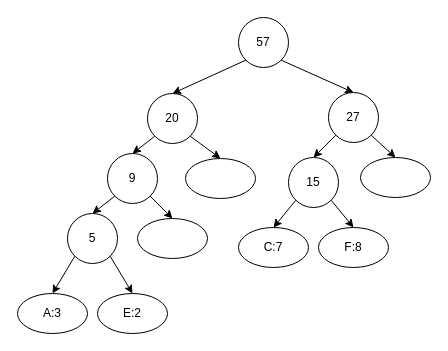
The diagram is 448 pixels wide and 351 high, and some of its shapes have lost their labels. Here are the shapes that lost their labels. From the top down, the centre of each, then its label:
At (220,178): "G:11".
At (395,177): "B:12".
At (172,238): "D:4".
